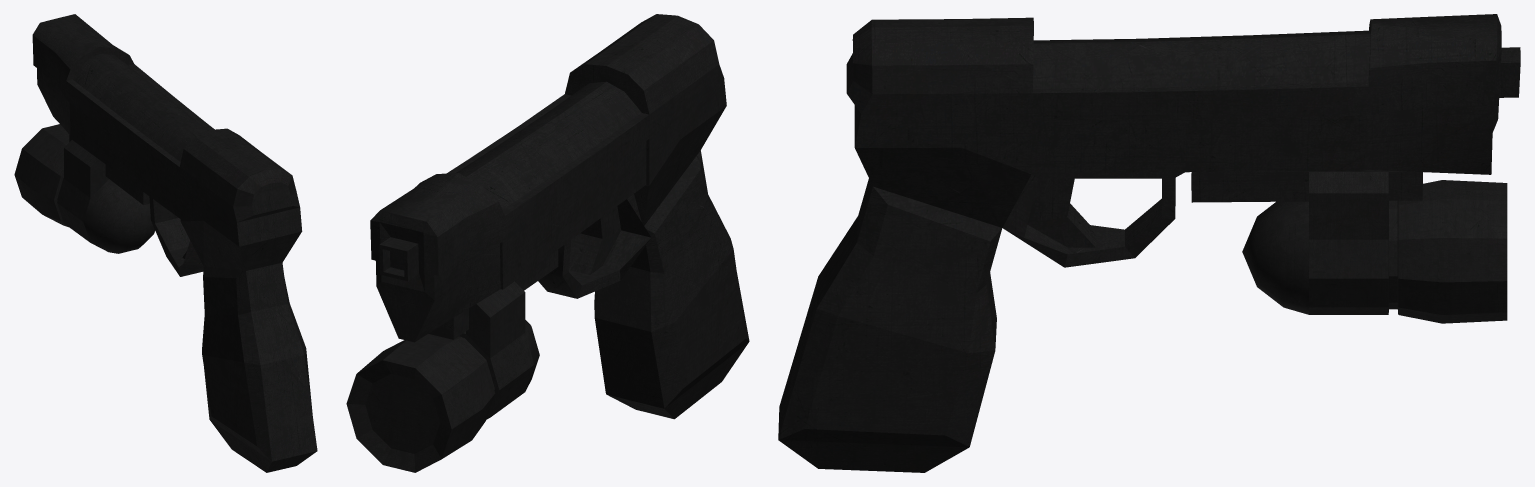
Rendered from FlashlightOfDoom.dae.
3 views of the same model, side by side, from view 1: azimuth 30°, elevation 25°; view 2: azimuth 150°, elevation 25°; view 3: azimuth 270°, elevation 25° (orthographic). The views are drawn at different scales.
Parts seen in each view (by area): view 1: pCube1, pCylinder1; view 2: pCube1, pCylinder1; view 3: pCube1, pCylinder1.
Part boxes in pixels (box(x1,y1,x2,y2)): pCube1: box(32, 14, 317, 472); pCylinder1: box(14, 124, 154, 253); pCube1: box(370, 14, 749, 419); pCylinder1: box(346, 281, 539, 472); pCube1: box(778, 14, 1520, 472); pCylinder1: box(1242, 172, 1507, 323).
Bounding box in the file's own units: 0.8238 × 2.76 × 4.23.
1 material, 1 textured.
